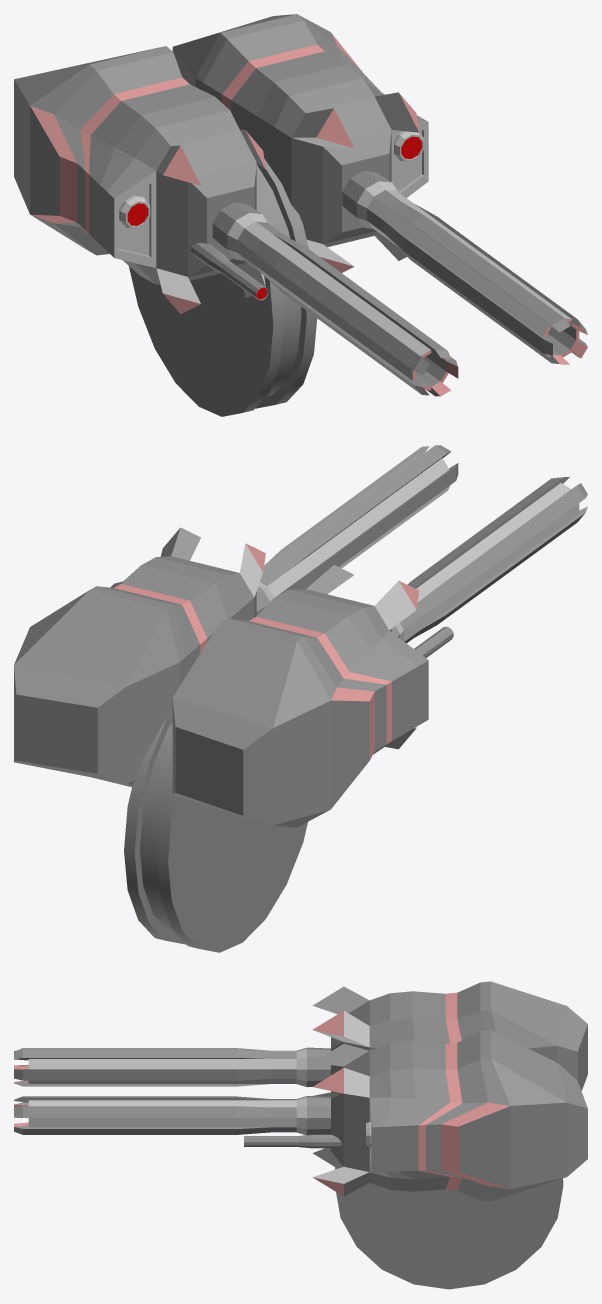
The model's file is DeathRoombaHead.fbx.
The picture shows the model from 3 angles, top to bottom: view 1: azimuth 30°, elevation 25°; view 2: azimuth 150°, elevation 25°; view 3: azimuth 270°, elevation 25°; orthographic projection. The views are drawn at different scales.
Visible parts, largest first — view 1: DeathRoombaHead; view 2: DeathRoombaHead; view 3: DeathRoombaHead.
Part boxes in pixels (x1=…): DeathRoombaHead: x1=14, y1=14, x2=587, y2=416; DeathRoombaHead: x1=14, y1=445, x2=587, y2=952; DeathRoombaHead: x1=14, y1=981, x2=587, y2=1289.
Size of the model in its own units: 0.9317 by 0.9677 by 1.93.
